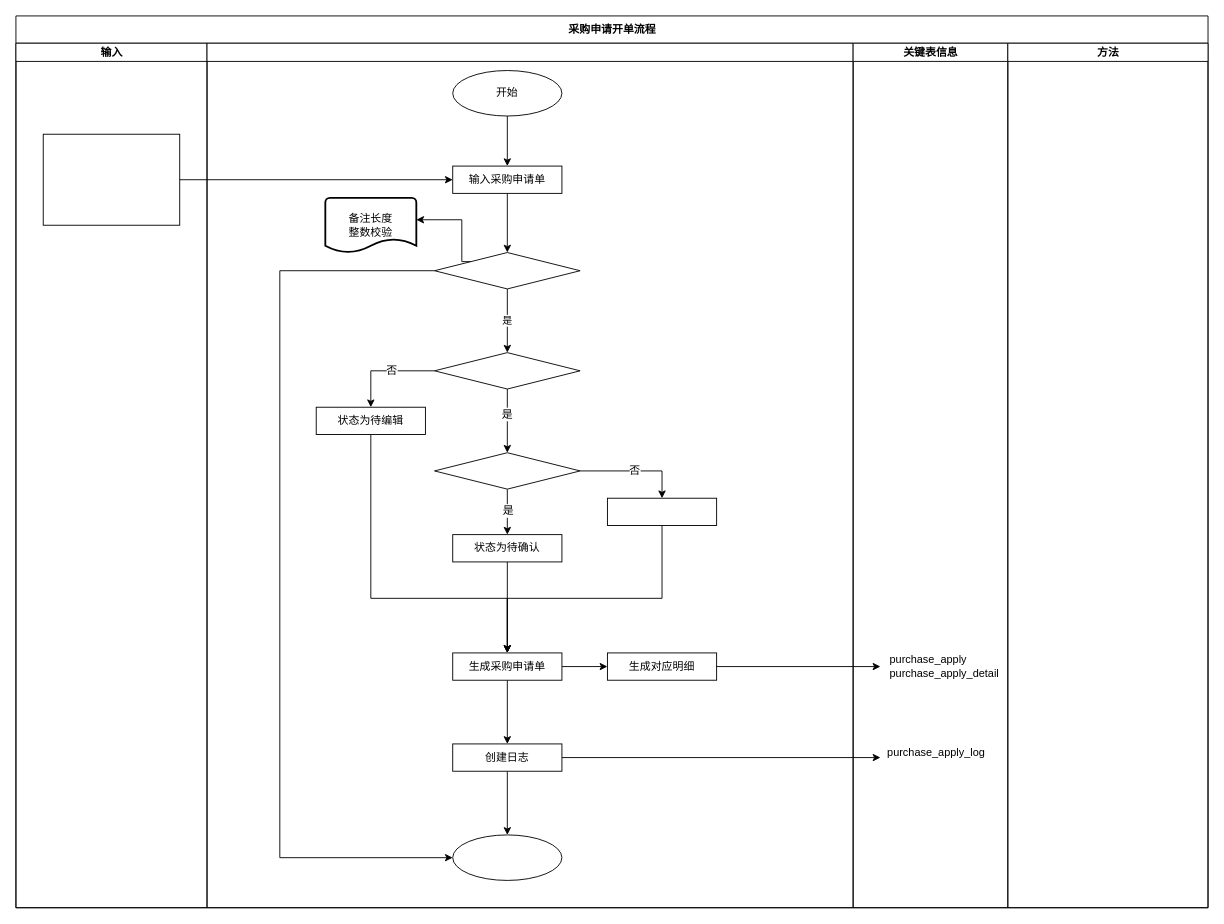
The diagram is 1224 pixels wide and 924 high, and some of its shapes have lost their labels. The shapes that lost their labels are listed below. From the top down, each one's centre as x and y in pixels, then its label:
At (x=111, y=179): "1、采购申请开单手动录入 2、单品进行导入".
At (x=507, y=270): "数据合法性校验".
At (x=507, y=370): "是否递交".
At (x=507, y=470): "开启采购申请量确认".
At (x=662, y=511): "状态为待引用".
At (x=507, y=857): "结束".
